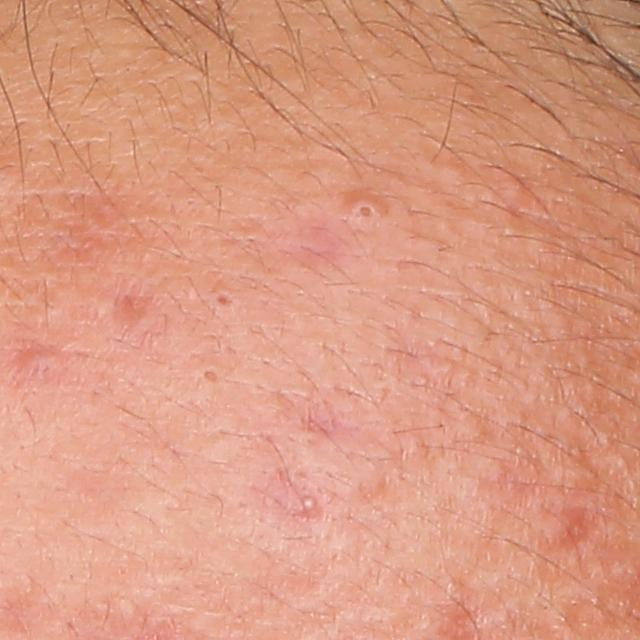comedo: (344, 190, 387, 220)
papule: (8, 343, 75, 387)
